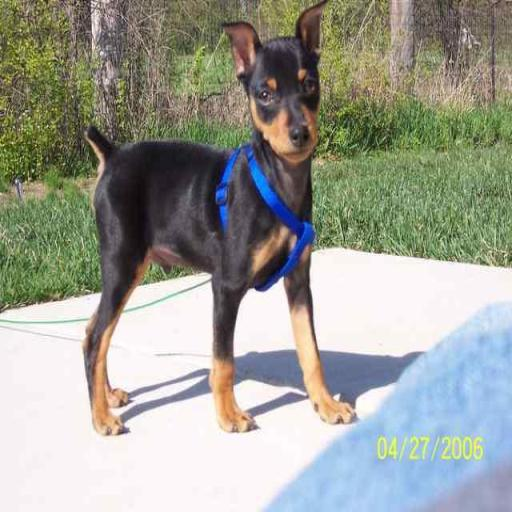dog_face: (218, 7, 336, 159)
